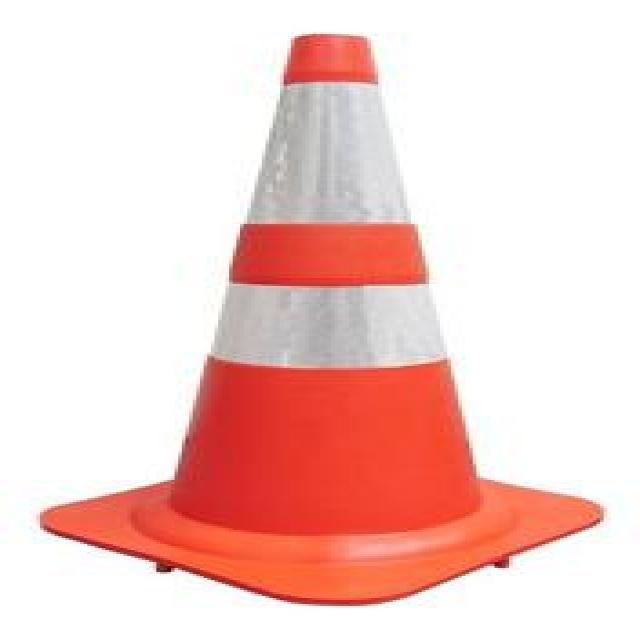cone: (16, 17, 617, 599)
